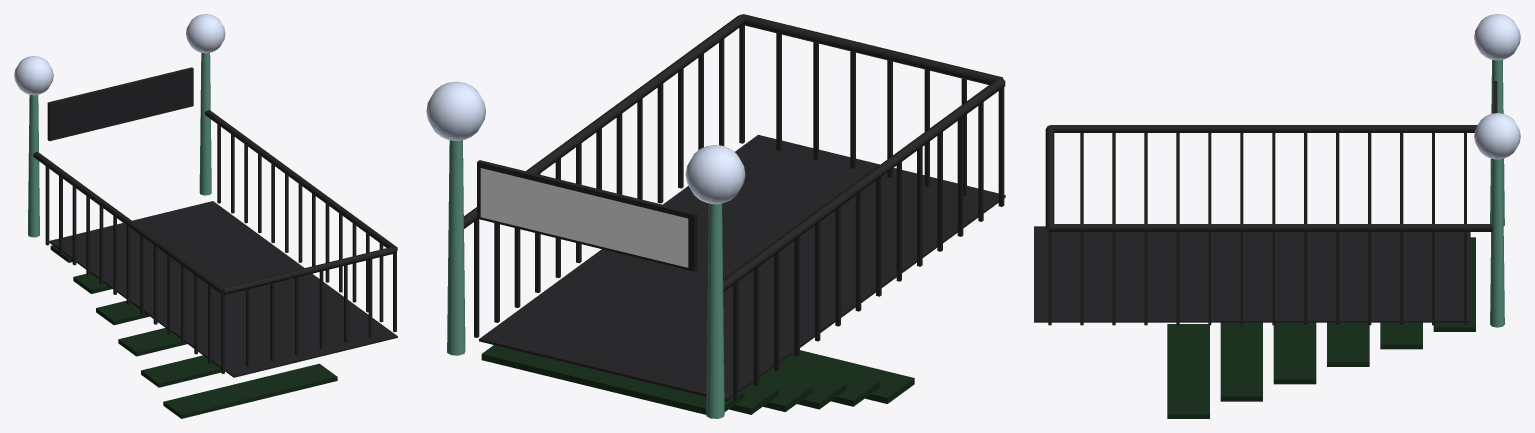
The model's file is SUBWAY_ENTRANCE.glb.
3 renders of one model, left to right at view 1: azimuth 30°, elevation 25°; view 2: azimuth 150°, elevation 25°; view 3: azimuth 270°, elevation 25°, orthographic. The views are drawn at different scales.
Parts seen in each view (by area): view 1: tread_0, concreteProp_1, copper_2, screen_3; view 2: tread_0, concreteProp_1, citySign_4, copper_2, screen_3; view 3: tread_0, concreteProp_1, screen_3, copper_2.
Part boxes in pixels (x1,y1,x2,y2): tread_0: (33,67,397,377); concreteProp_1: (50,245,337,418); copper_2: (28,53,211,237); screen_3: (14,14,225,95); tread_0: (464,14,1005,401); concreteProp_1: (481,345,914,414); citySign_4: (480,168,688,267); copper_2: (447,140,724,418); screen_3: (426,81,745,204); tread_0: (1034,81,1497,325); concreteProp_1: (1167,237,1475,418); screen_3: (1474,14,1520,159); copper_2: (1490,60,1504,327).
Size of the model in its own units: 2.64 by 3.2 by 4.57.
